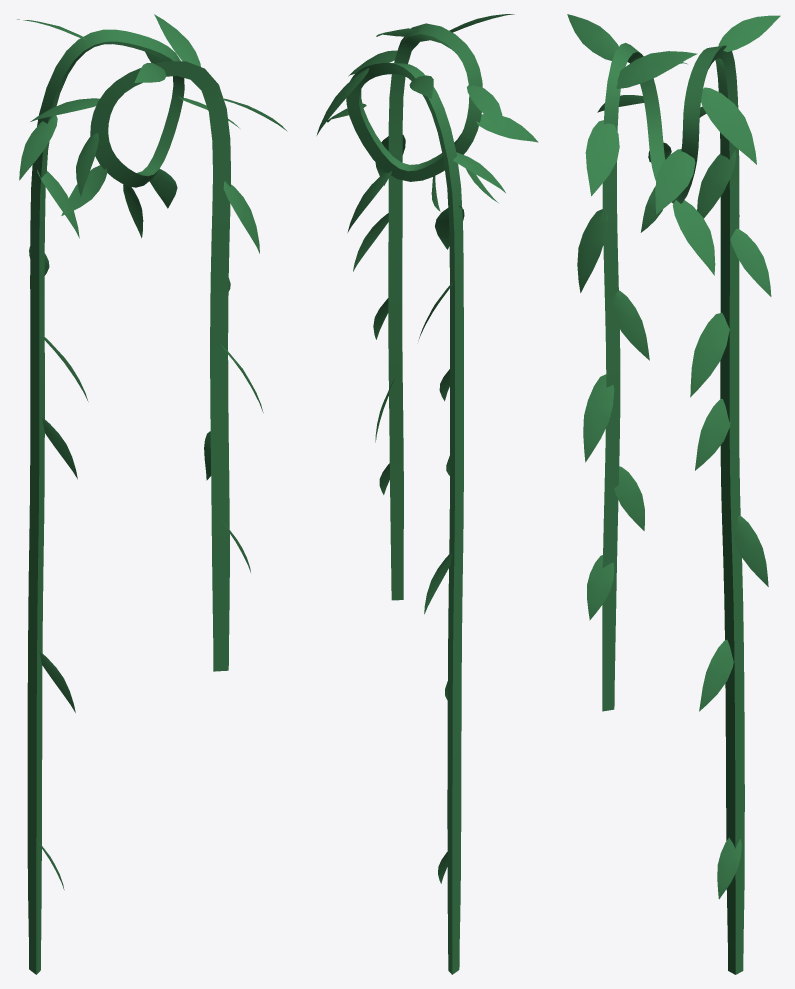
Rendered from vine_M_scanden.fbx.
3 views of the same model, side by side, from view 1: azimuth 30°, elevation 25°; view 2: azimuth 150°, elevation 25°; view 3: azimuth 270°, elevation 25° (orthographic). The views are drawn at different scales.
Parts seen in each view (by area): view 1: vine_M_scanden_root, vine_M_scanden_A_leaf_A34, vine_M_scanden_A_leaf_A, vine_M_scanden_A_leaf_A36, vine_M_scanden_A_leaf_A35, vine_M_scanden_A_leaf_A25, vine_M_scanden_A_leaf_A43, vine_M_scanden_A_leaf_A31; view 2: vine_M_scanden_root, vine_M_scanden_A_leaf_A27, vine_M_scanden_A_leaf_A25, vine_M_scanden_A_leaf_A29, vine_M_scanden_A_leaf_A31, vine_M_scanden_A_leaf_A34, vine_M_scanden_A_leaf_A39; view 3: vine_M_scanden_root, vine_M_scanden_A_leaf_A29, vine_M_scanden_A_leaf_A41, vine_M_scanden_A_leaf_A30, vine_M_scanden_A_leaf_A38, vine_M_scanden_A_leaf_A22, vine_M_scanden_A_leaf_A31, vine_M_scanden_A_leaf_A35, vine_M_scanden_A_leaf_A36, vine_M_scanden_A_leaf_A43, vine_M_scanden_A_leaf_A32, vine_M_scanden_A_leaf_A39 (+8 smaller).
Part boxes in pixels (x1,y1,x2,y2): vine_M_scanden_root: (27,29,230,974); vine_M_scanden_A_leaf_A34: (19,115,57,180); vine_M_scanden_A_leaf_A: (61,165,107,215); vine_M_scanden_A_leaf_A36: (223,181,259,253); vine_M_scanden_A_leaf_A35: (154,14,200,66); vine_M_scanden_A_leaf_A25: (76,133,98,196); vine_M_scanden_A_leaf_A43: (37,170,79,238); vine_M_scanden_A_leaf_A31: (149,169,177,208); vine_M_scanden_root: (346,23,482,974); vine_M_scanden_A_leaf_A27: (467,85,502,133); vine_M_scanden_A_leaf_A25: (476,114,538,142); vine_M_scanden_A_leaf_A29: (316,67,369,135); vine_M_scanden_A_leaf_A31: (347,171,391,232); vine_M_scanden_A_leaf_A34: (453,152,505,192); vine_M_scanden_A_leaf_A39: (353,213,388,271); vine_M_scanden_root: (602,43,744,974); vine_M_scanden_A_leaf_A29: (701,87,756,164); vine_M_scanden_A_leaf_A41: (690,312,729,397); vine_M_scanden_A_leaf_A30: (585,120,619,196); vine_M_scanden_A_leaf_A38: (583,374,614,462); vine_M_scanden_A_leaf_A22: (655,149,695,214); vine_M_scanden_A_leaf_A31: (672,200,715,275); vine_M_scanden_A_leaf_A35: (616,51,697,88); vine_M_scanden_A_leaf_A36: (577,209,607,292); vine_M_scanden_A_leaf_A43: (697,150,736,218); vine_M_scanden_A_leaf_A32: (695,398,730,470); vine_M_scanden_A_leaf_A39: (610,290,649,360).
Size of the model in its own units: 66.51 by 276 by 55.22.
